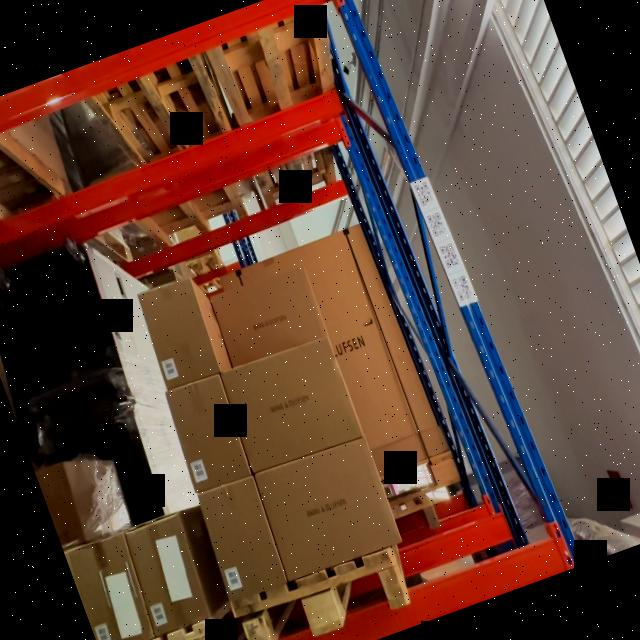box: (256, 443, 400, 578), (222, 339, 362, 475), (211, 267, 328, 370), (199, 481, 287, 603), (166, 373, 250, 495), (137, 277, 221, 388), (127, 520, 206, 638)
